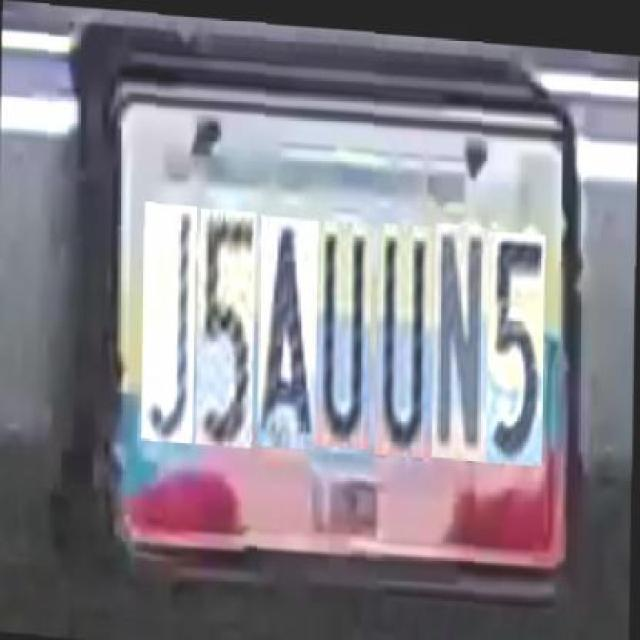5: (196, 205, 256, 443), (487, 218, 545, 453)
a: (258, 208, 318, 442)
j: (142, 199, 196, 439)
n: (432, 212, 490, 450)
u: (376, 211, 432, 447), (316, 212, 372, 440)
